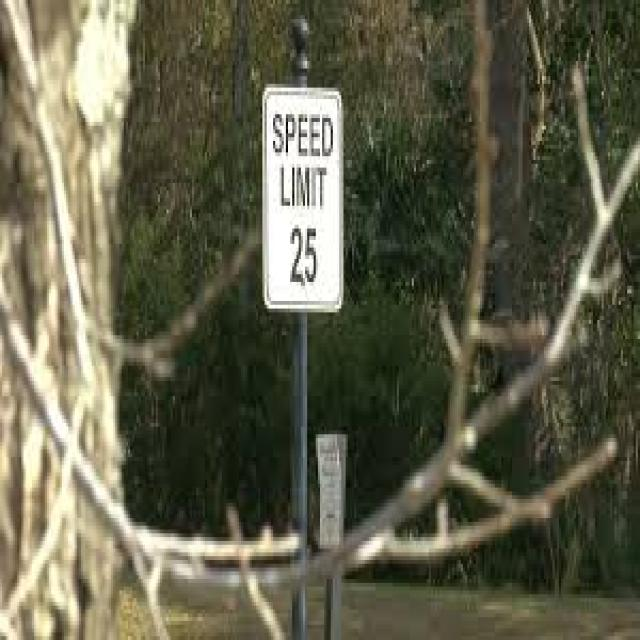speedLimit25: (260, 88, 342, 324)
